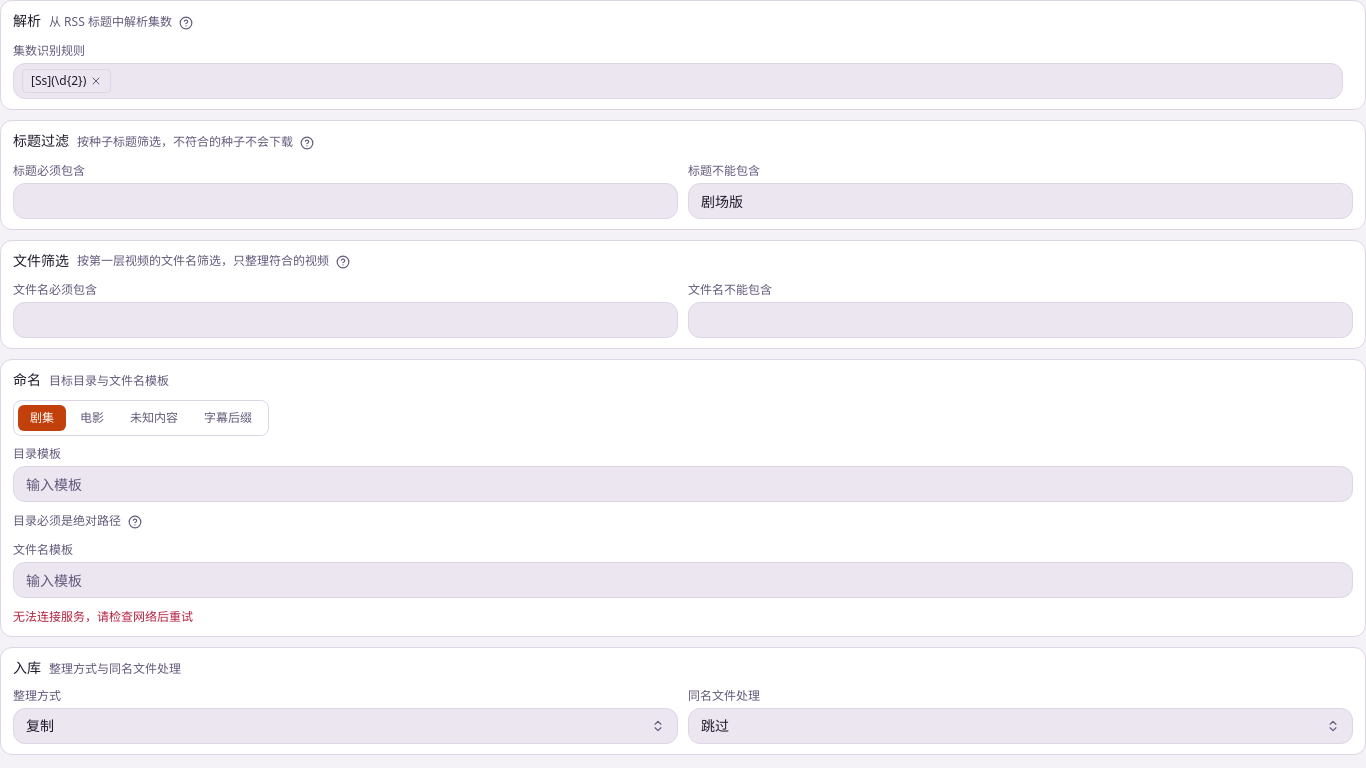
RulesSectionsFields › 同名文件处理选覆盖时提示会永久删除原有文件
expect the text "覆盖会永久删除原有文件，已入库的文件也会被覆盖；被覆盖的剧集会从原番剧中移除。" is not shown: met
Click the dropdown named "同名文件处理" at (715, 726), box [688,708,1353,744]
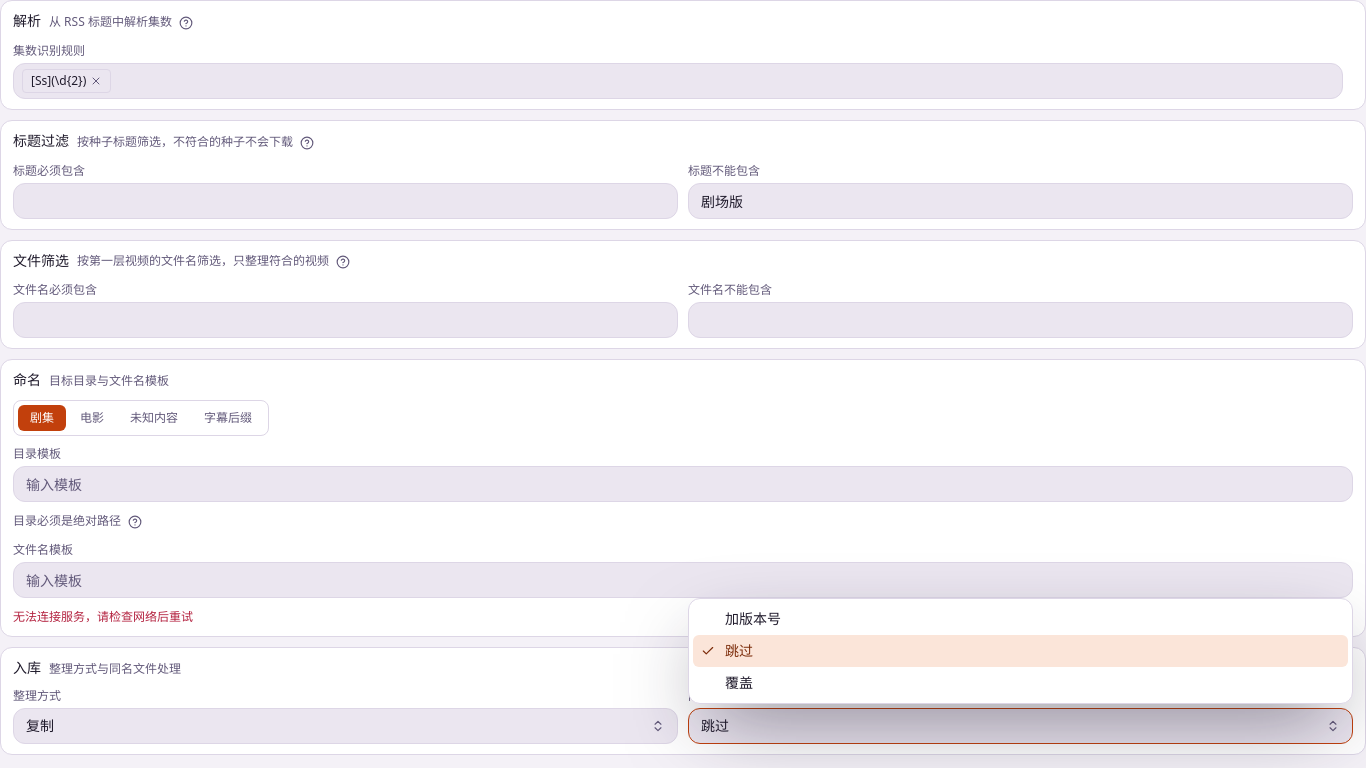
Click the option "覆盖" at (739, 682), box [725,673,753,692]
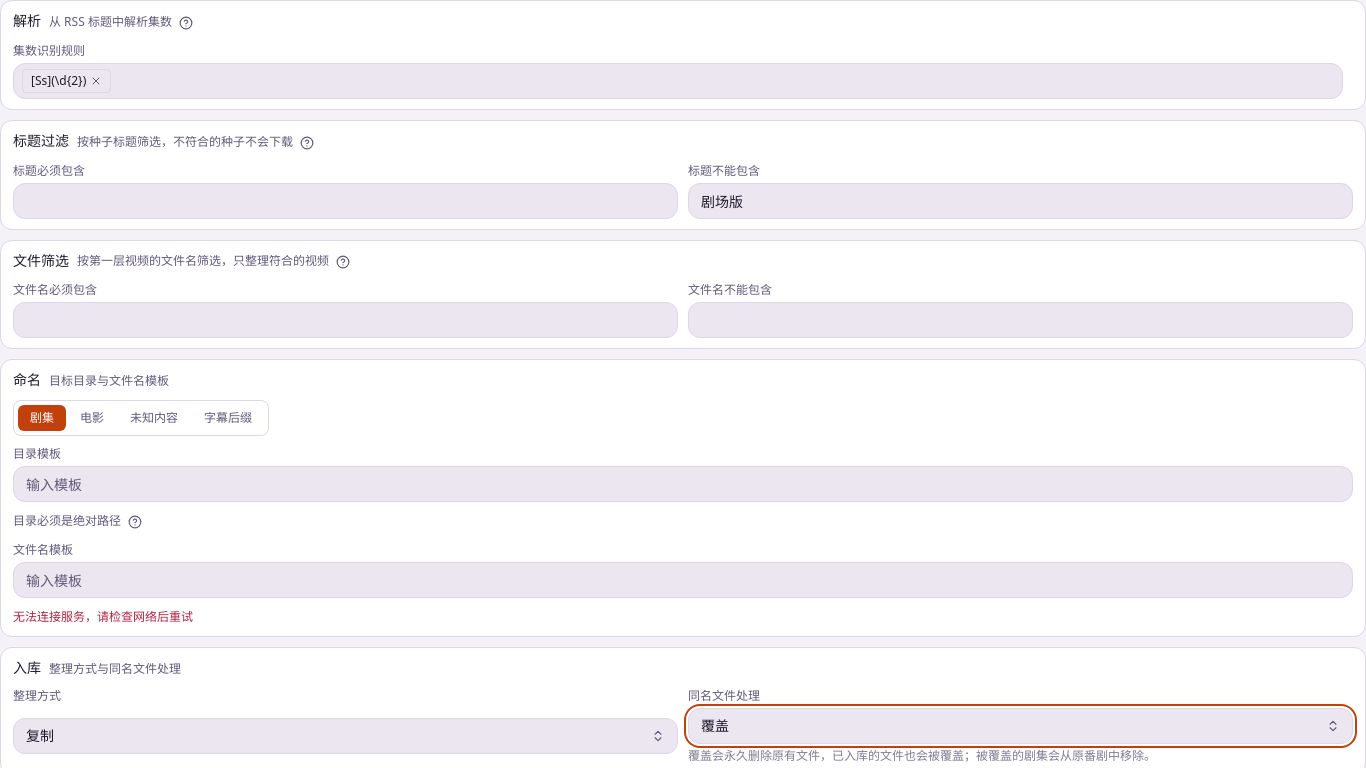
expect the text "覆盖会永久删除原有文件，已入库的文件也会被覆盖；被覆盖的剧集会从原番剧中移除。" is shown: met, box [688,747,1156,764]
